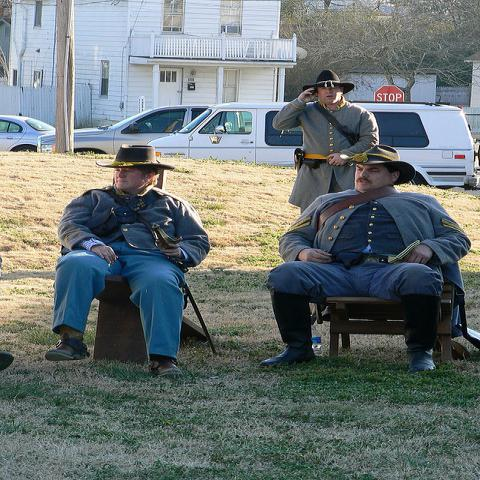car: (148, 101, 479, 191), (37, 105, 217, 154), (0, 113, 55, 153)
truck: (36, 104, 246, 155)
